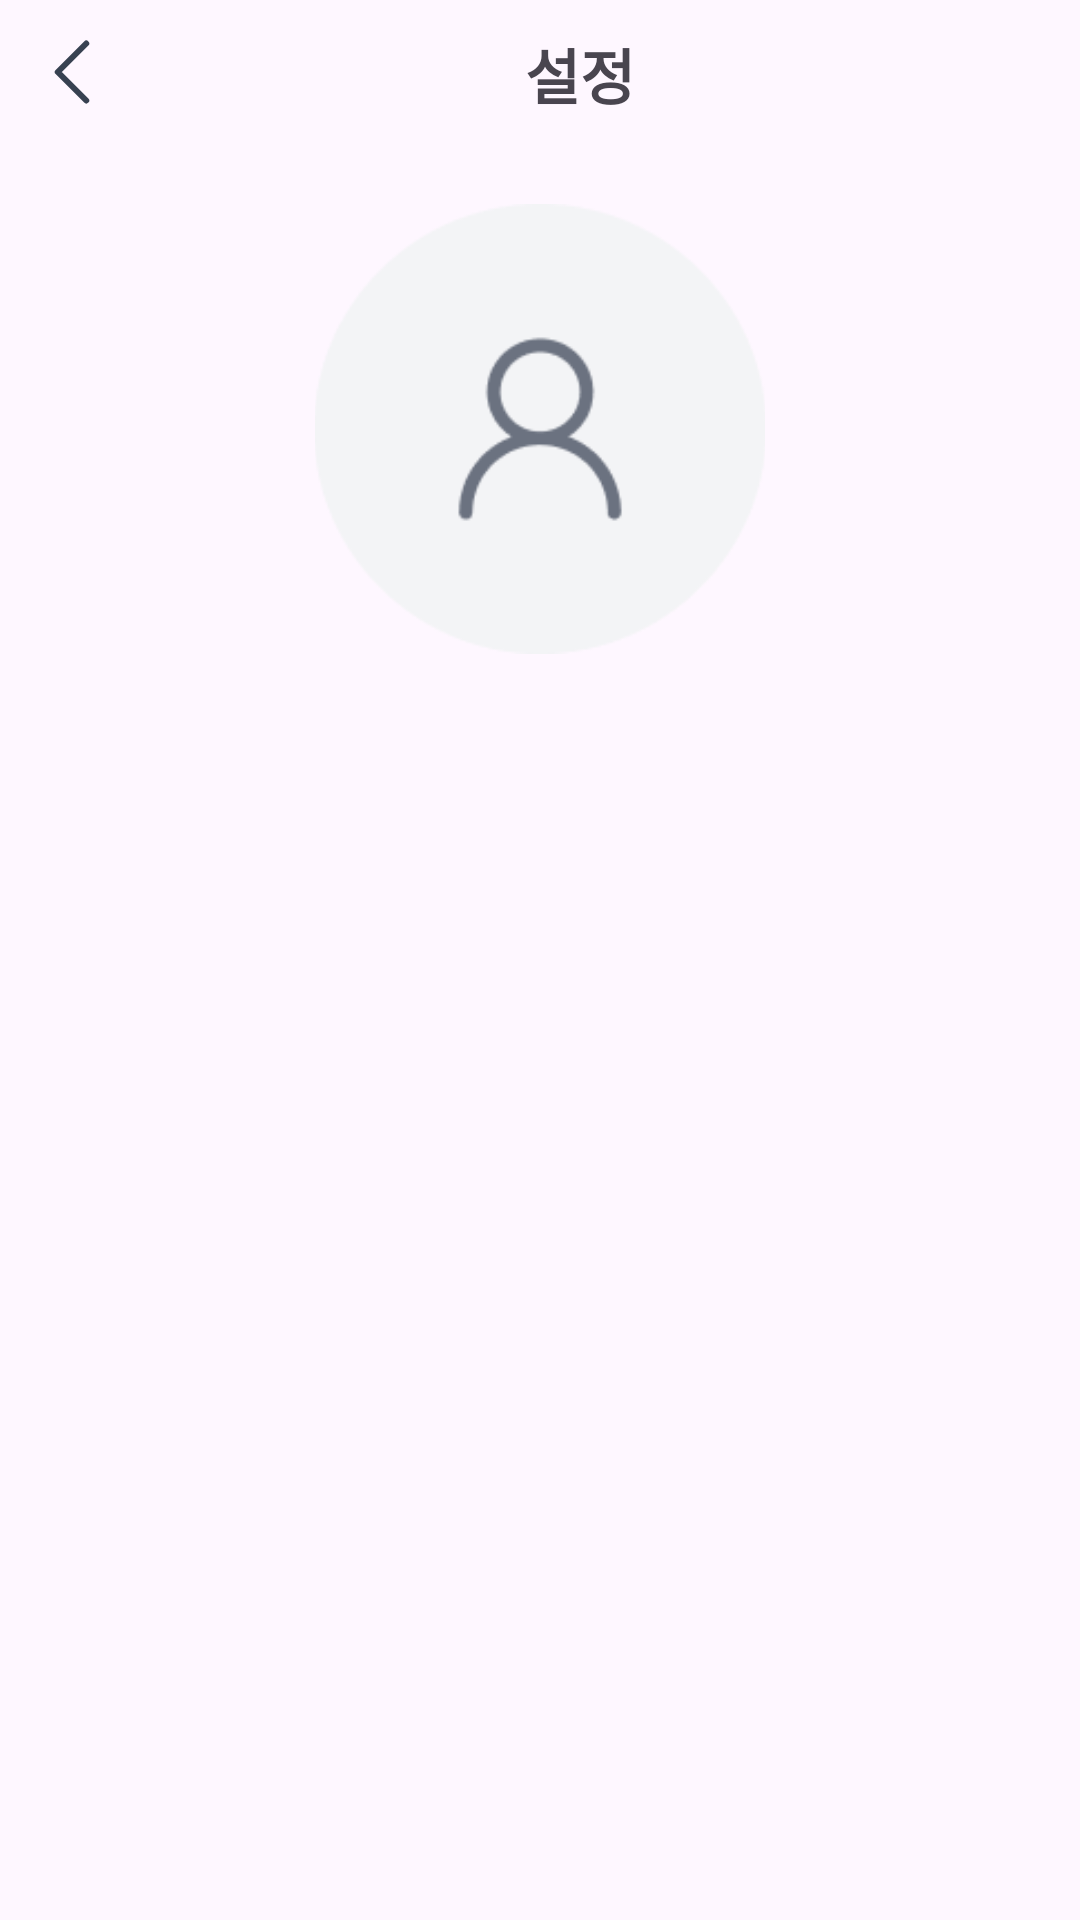

Where to tap for icons on this 1080w x 1920h app screen, as point (x, y):
backbtn: point (72, 72)
